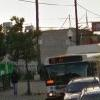Bus: (39, 50, 100, 98)
